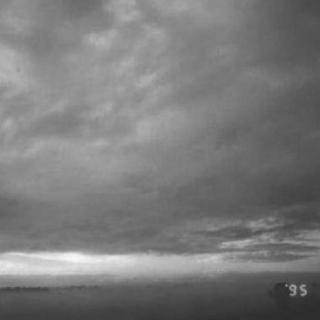Stratocumulus: (0, 1, 320, 264)
